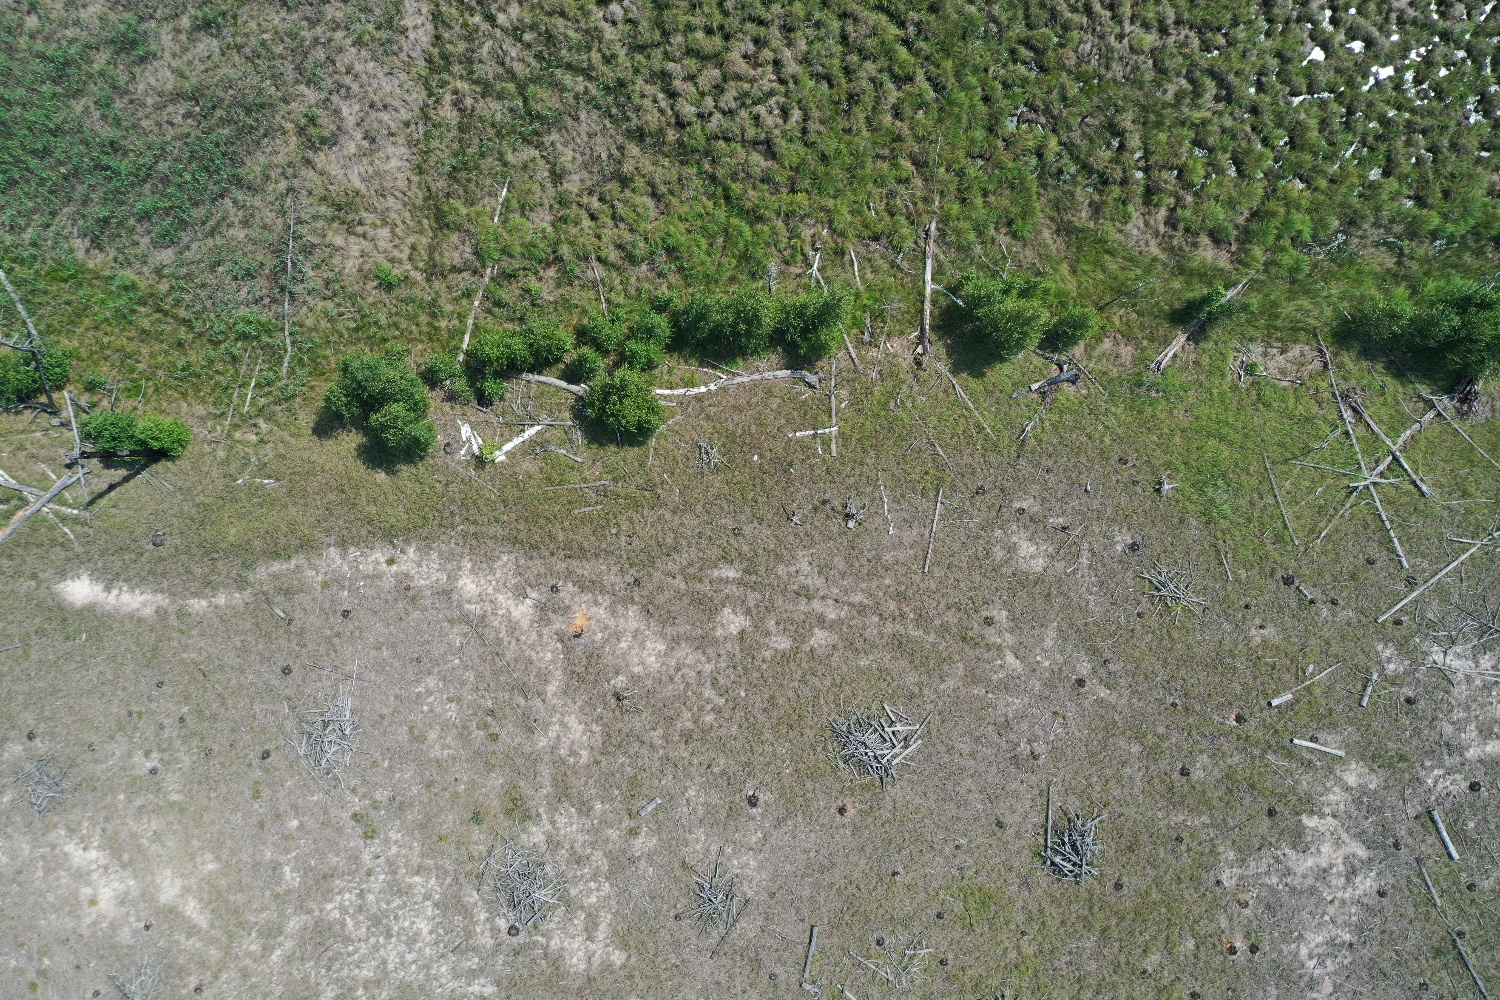branches: (829, 711, 937, 790), (485, 842, 575, 925), (294, 694, 373, 788), (1041, 785, 1109, 883), (677, 865, 750, 937), (17, 754, 71, 816), (1138, 558, 1198, 610), (696, 444, 724, 469)
